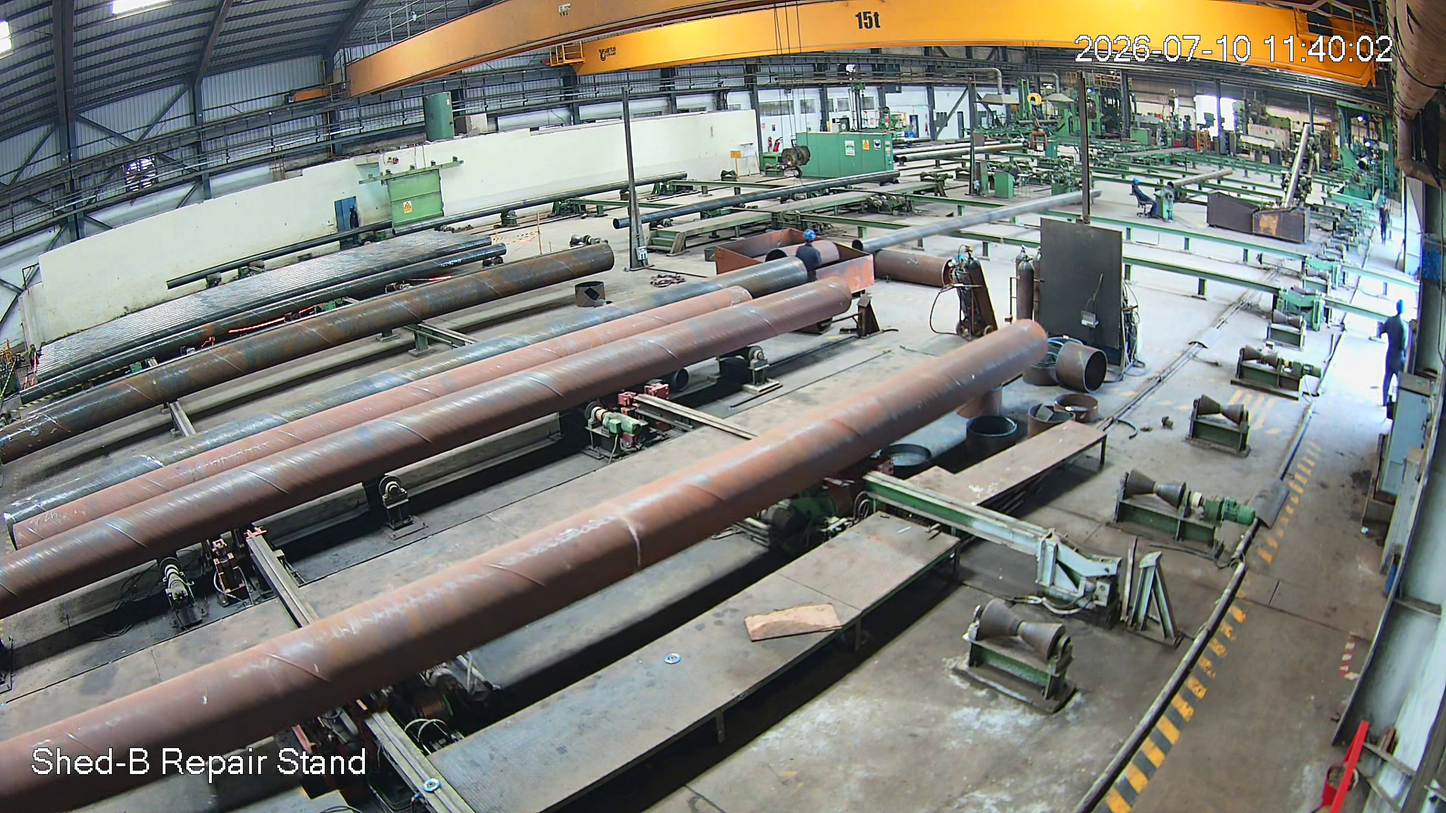Helmet: (799, 221, 819, 258), (1390, 292, 1408, 323), (1132, 169, 1145, 200)
Person: (1378, 295, 1414, 409), (1128, 173, 1163, 228), (791, 224, 825, 277), (1375, 199, 1396, 252)
